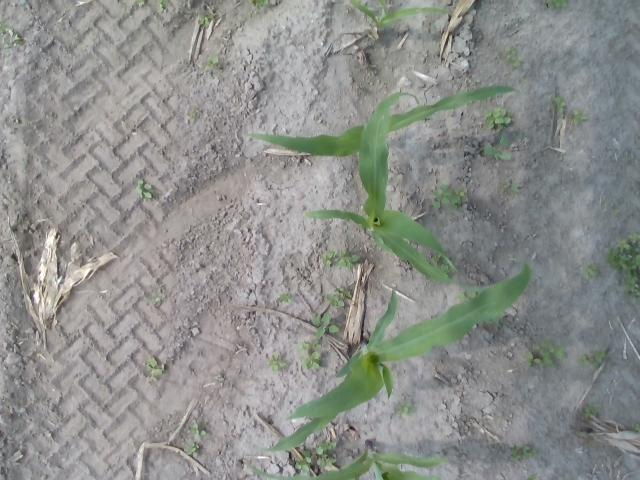Maize: (254, 264, 534, 454), (303, 92, 499, 290), (242, 85, 516, 158), (242, 440, 442, 480), (350, 1, 452, 28)
Weeds: (606, 233, 640, 300), (528, 340, 568, 364), (300, 340, 322, 372), (312, 313, 338, 338), (486, 108, 512, 133), (1, 22, 22, 48), (430, 184, 450, 210), (485, 134, 508, 156), (334, 250, 358, 268), (317, 449, 337, 468), (266, 354, 286, 370), (294, 456, 313, 472), (137, 180, 153, 198), (148, 355, 160, 379), (454, 186, 468, 206), (582, 262, 597, 280), (584, 400, 598, 418), (512, 447, 531, 460), (546, 0, 570, 10), (508, 47, 520, 67), (572, 110, 586, 126), (326, 292, 344, 304), (202, 54, 220, 66), (186, 442, 201, 456), (554, 96, 566, 113), (319, 440, 338, 450), (191, 424, 205, 436), (322, 250, 334, 264), (338, 286, 351, 298), (252, 0, 267, 10), (398, 402, 410, 414), (593, 350, 605, 362), (157, 0, 169, 12), (580, 355, 592, 365), (508, 184, 518, 194), (199, 16, 209, 26), (503, 177, 511, 189), (278, 294, 290, 302), (194, 108, 202, 116), (189, 113, 196, 122), (612, 208, 620, 215), (603, 203, 609, 212), (138, 0, 145, 7), (152, 297, 160, 303)
